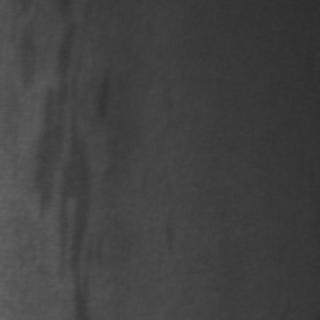inclusion: (26, 8, 102, 312)
